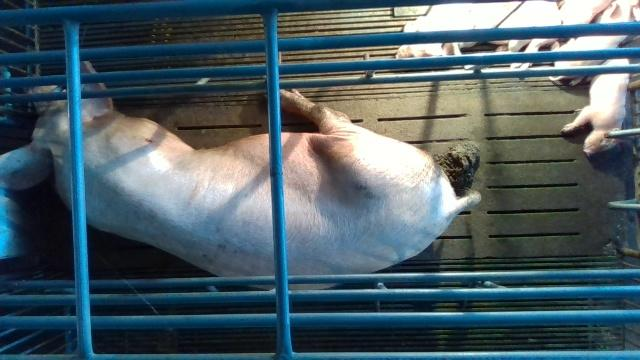piglet: (548, 0, 640, 86), (561, 59, 629, 157)
sow-sit: (0, 61, 481, 289)
